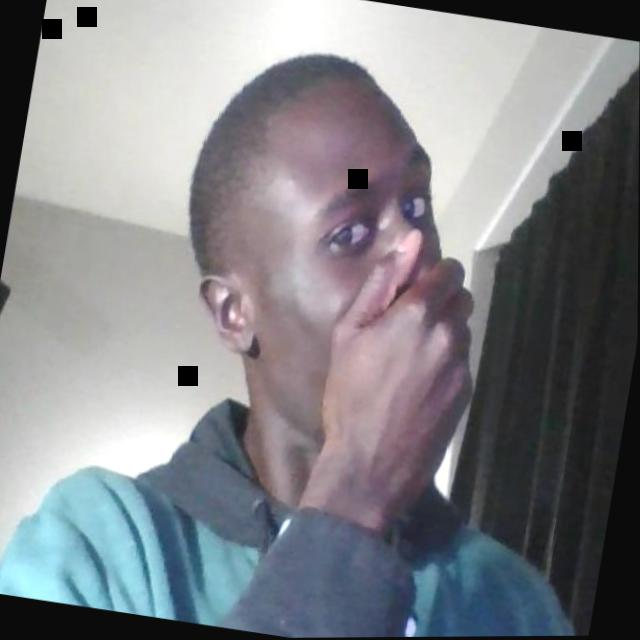NO-Mask: (230, 96, 467, 459)
